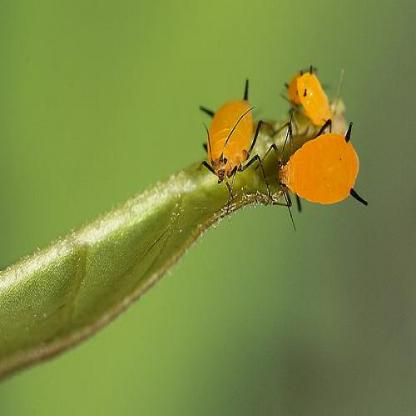aphid: (264, 108, 370, 225), (189, 75, 264, 181), (284, 60, 338, 125)
